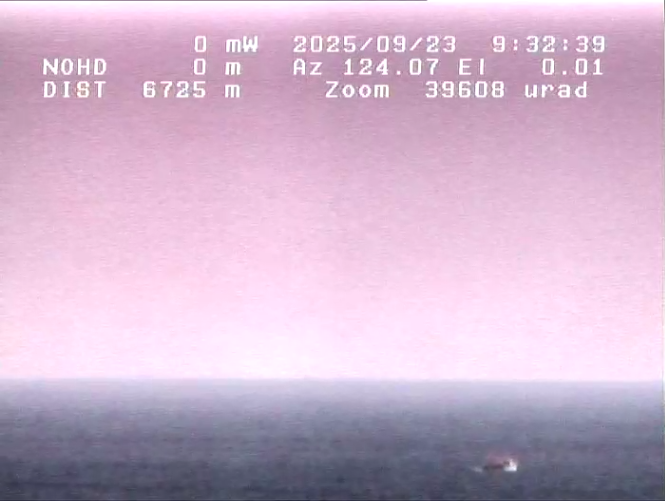TUGS: (471, 449, 526, 479)
